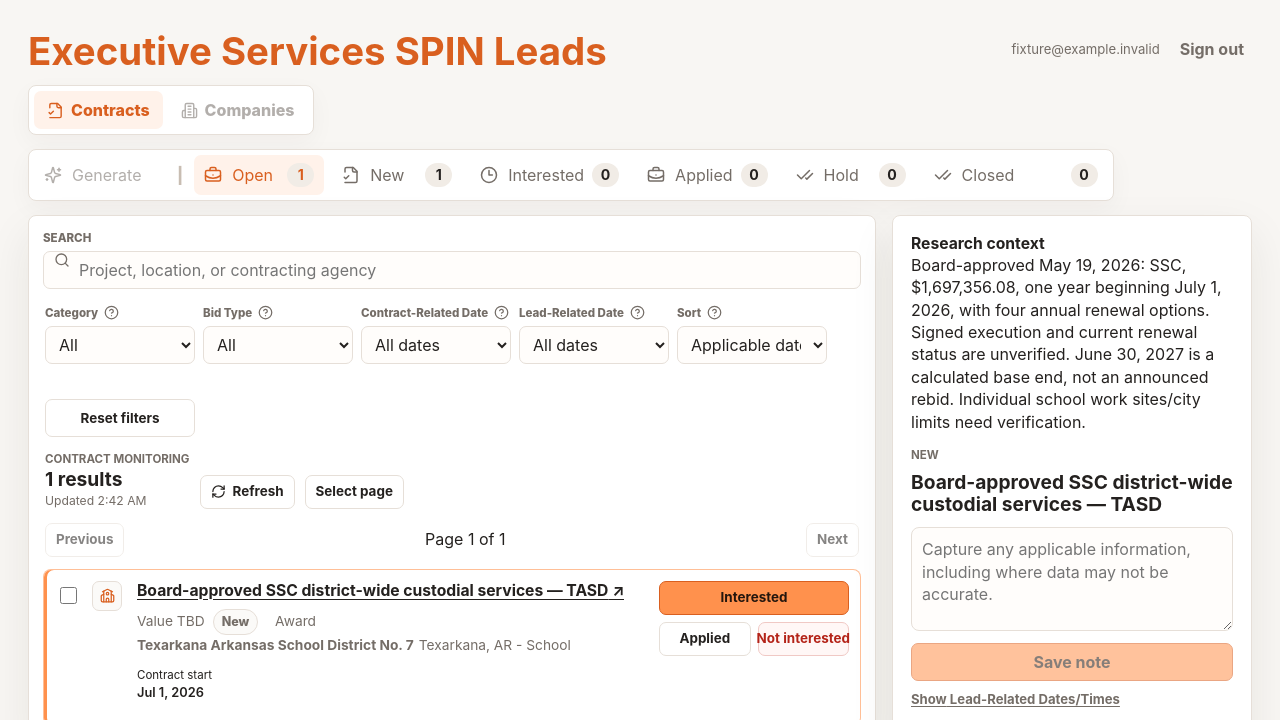
Test: retains research context after selection/history and refreshes qualifications from canonical data
Expected: the element "Research context" shows "Signed execution", [911,255,1222,432]
Expected: the button "edit" is not shown
Click the button with aria-label "Refresh contracts from Supabase" at {"x": 247, "y": 492}, box [200,475,295,509]
(page scrolled)
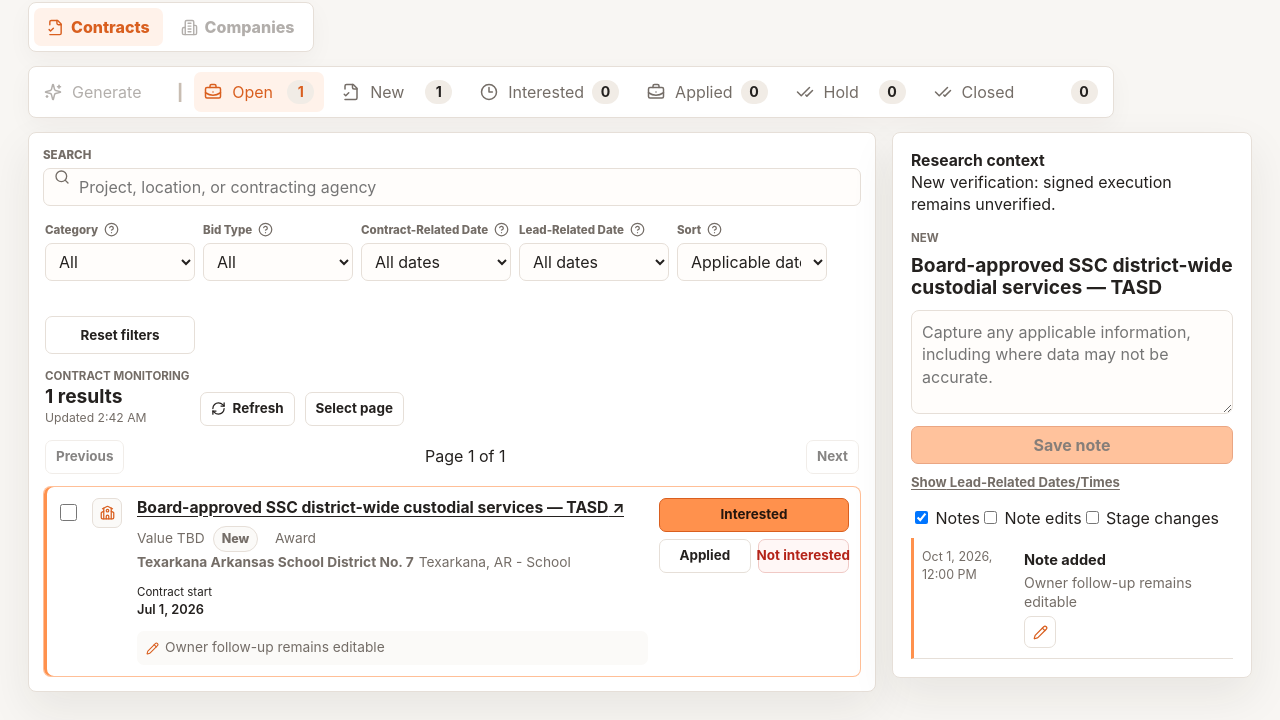
Expected: the text "New verification: signed execution remains unverified." is shown, [911,172,1172,214]
Expected: the text "Owner follow-up remains editable" is shown, [137,631,648,665]
